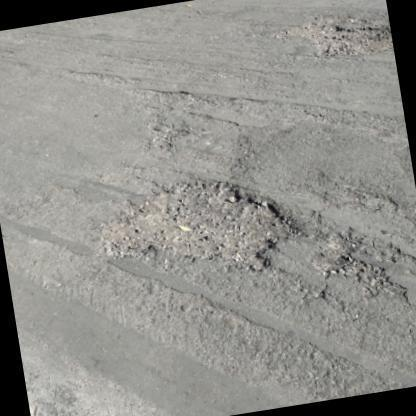pothole: (88, 178, 290, 275), (306, 222, 408, 298), (288, 16, 396, 57)
